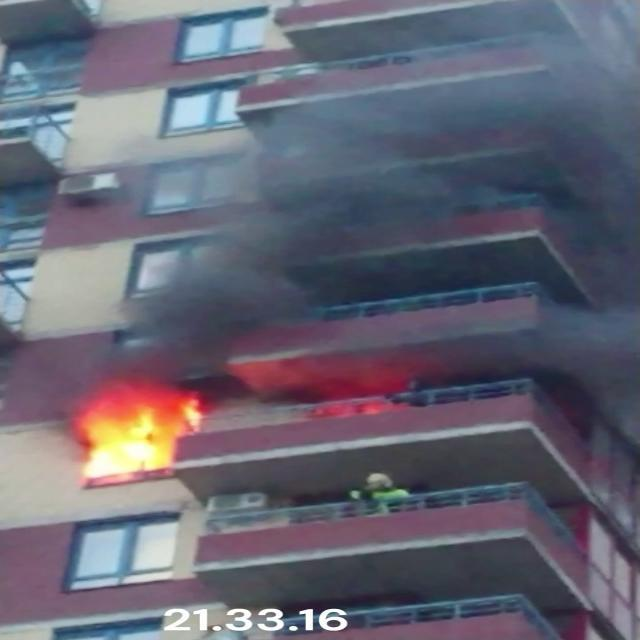Fire: (58, 386, 217, 478)
Smoke: (52, 2, 640, 383)
